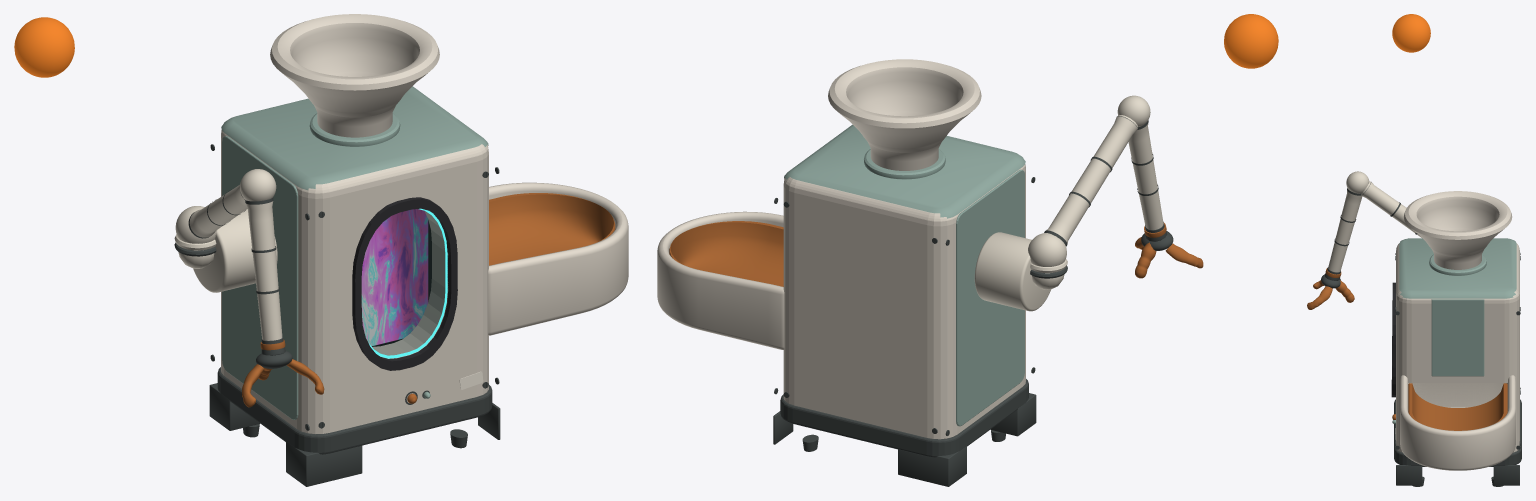
The model's file is hero_animation_v14_p6.glb.
3 renders of one model, left to right at view 1: azimuth 30°, elevation 25°; view 2: azimuth 150°, elevation 25°; view 3: azimuth 270°, elevation 25°, orthographic. The views are drawn at different scales.
Visible parts, largest first — view 1: Machine_Body, Machine_Hopper, P3f_TopSkin, P1_ChuteSeat, Machine_WindowGlass, P1_MintStrip_L, P2_Plasma, Machine_Chute, P1_BaseBand, Machine_WindowFrame, Machine_Base, Arm_Forearm (+7 smaller); view 2: Machine_Body, Machine_Hopper, P1_MintStrip_L, P3f_TopSkin, P1_ChuteSeat, Machine_Chute, P1_BaseBand, P1_ShoulderBay, Machine_Base, Arm_UpperArm, Idea, Arm_Forearm (+3 smaller); view 3: Machine_Body, P1_ChuteSeat, Machine_Hopper, P3f_TopSkin, P1_MintStrip_R, Machine_Chute, Arm_Forearm, Idea, Machine_Base, Arm_UpperArm, P1_BaseBand, Machine_WindowFrame (+3 smaller).
Boxes of the visible parts, box(x1,y1,x2,y2) form: Machine_Body: box(221, 130, 488, 433); Machine_Hopper: box(270, 14, 439, 137); P3f_TopSkin: box(221, 86, 488, 190); P1_ChuteSeat: box(488, 182, 628, 335); Machine_WindowGlass: box(362, 209, 444, 355); P1_MintStrip_L: box(222, 136, 298, 419); P2_Plasma: box(361, 209, 431, 346); Machine_Chute: box(489, 193, 615, 265); P1_BaseBand: box(217, 367, 492, 454); Machine_WindowFrame: box(352, 197, 457, 370); Machine_Base: box(209, 383, 500, 486); Arm_Forearm: box(245, 197, 282, 340); Machine_Body: box(783, 164, 1025, 439); Machine_Hopper: box(828, 59, 981, 170); P1_MintStrip_L: box(956, 169, 1024, 426); P3f_TopSkin: box(784, 124, 1025, 218); P1_ChuteSeat: box(657, 211, 784, 349); Machine_Chute: box(669, 221, 783, 286); P1_BaseBand: box(780, 379, 1028, 457); P1_ShoulderBay: box(974, 232, 1050, 311); Machine_Base: box(773, 393, 1036, 486); Arm_UpperArm: box(1044, 115, 1137, 246); Idea: box(1224, 14, 1278, 68); Arm_Forearm: box(1128, 120, 1163, 229); Machine_Body: box(1396, 243, 1519, 452); P1_ChuteSeat: box(1400, 375, 1515, 470); Machine_Hopper: box(1404, 191, 1512, 269); P3f_TopSkin: box(1399, 238, 1516, 298); P1_MintStrip_R: box(1431, 299, 1484, 376); Machine_Chute: box(1408, 383, 1507, 430); Arm_Forearm: box(1328, 188, 1362, 272); Idea: box(1392, 14, 1430, 52); Machine_Base: box(1396, 465, 1519, 485); Arm_UpperArm: box(1361, 181, 1421, 237); P1_BaseBand: box(1394, 399, 1521, 466); Machine_WindowFrame: box(1391, 282, 1395, 397).
Bounding box in the file's own units: 6.04 × 4.82 × 2.77.
Materials: 13 (2 with a texture image).
